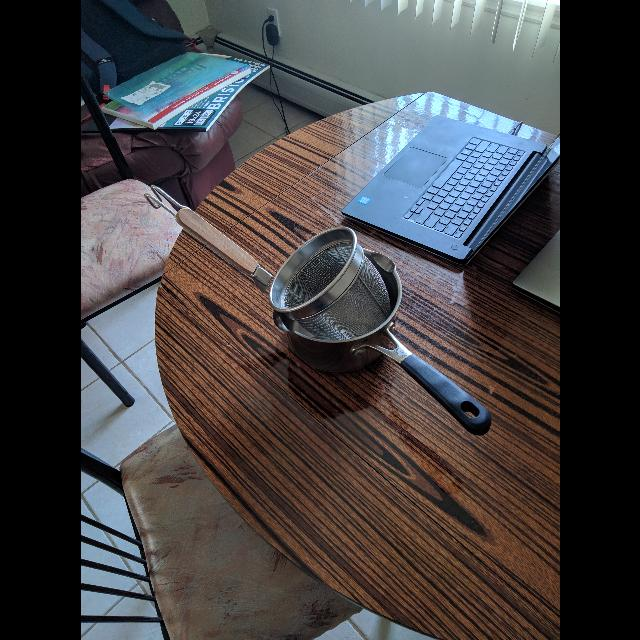Handle: (139, 180, 274, 289)
Strainer: (265, 224, 361, 312)
